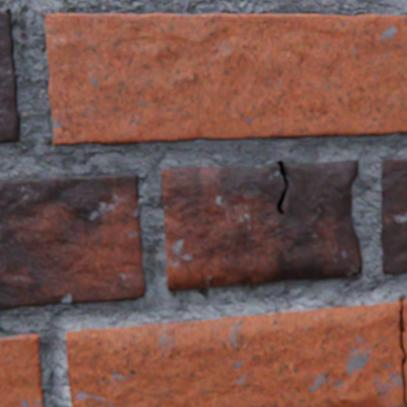brick: (46, 14, 406, 145), (162, 160, 361, 290), (0, 174, 145, 308), (0, 334, 45, 406), (380, 159, 406, 273), (0, 9, 21, 142)
broken_brick: (67, 299, 406, 406)
crack: (277, 159, 288, 214), (398, 298, 404, 376), (402, 378, 406, 406)
